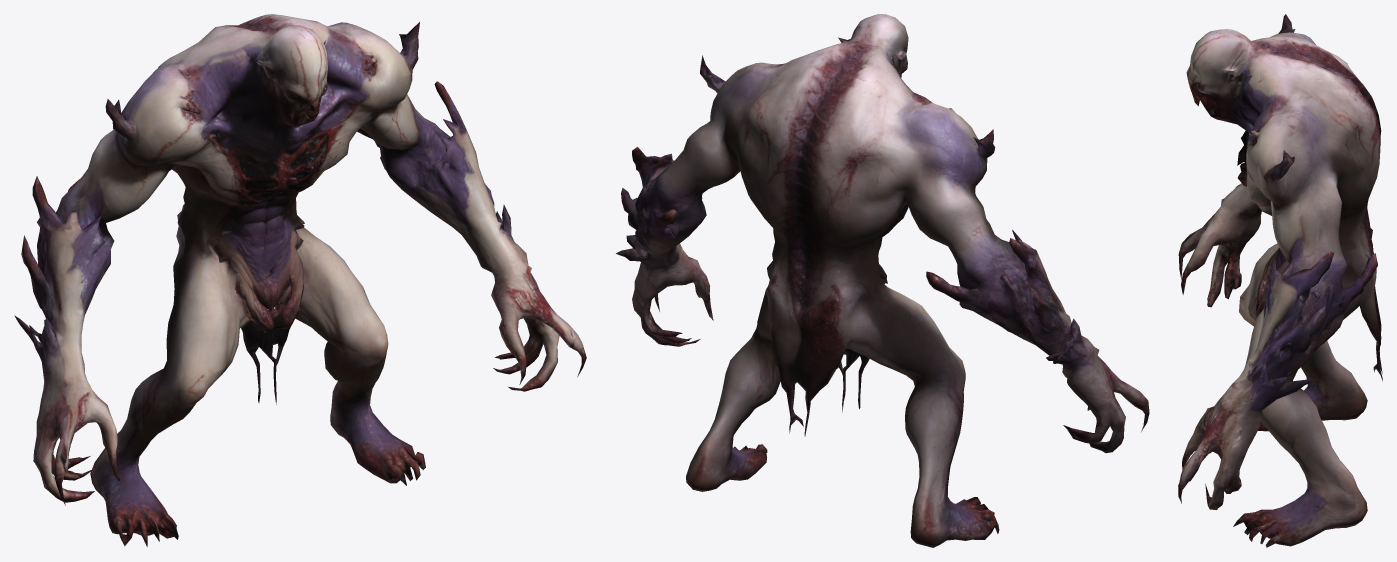
File: rot_king.glb
The picture shows the model from 3 angles, left to right: view 1: azimuth 30°, elevation 25°; view 2: azimuth 150°, elevation 25°; view 3: azimuth 270°, elevation 25°; orthographic projection. The views are drawn at different scales.
Visible parts, largest first — view 1: Mesh1_Material.001_0; view 2: Mesh1_Material.001_0; view 3: Mesh1_Material.001_0.
Boxes of the visible parts, <box> form: Mesh1_Material.001_0: <box>14,14,586,546</box>; Mesh1_Material.001_0: <box>616,14,1149,547</box>; Mesh1_Material.001_0: <box>1178,14,1382,547</box>.
Bounding box in the file's own units: 2 × 1.8 × 0.7366.
1 material, 1 textured.
